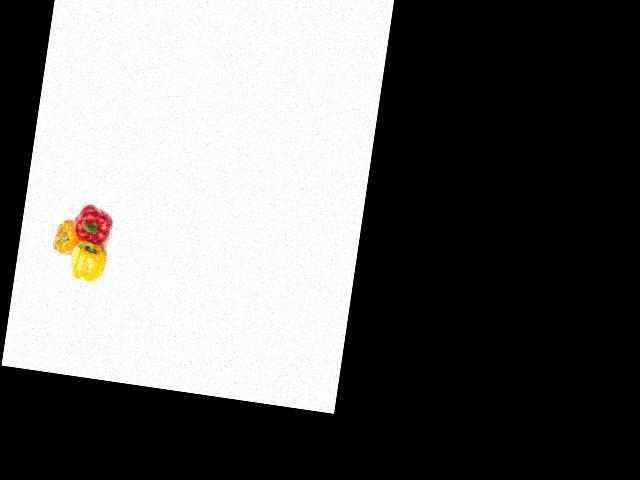bell_pepper: (67, 241, 110, 284)
